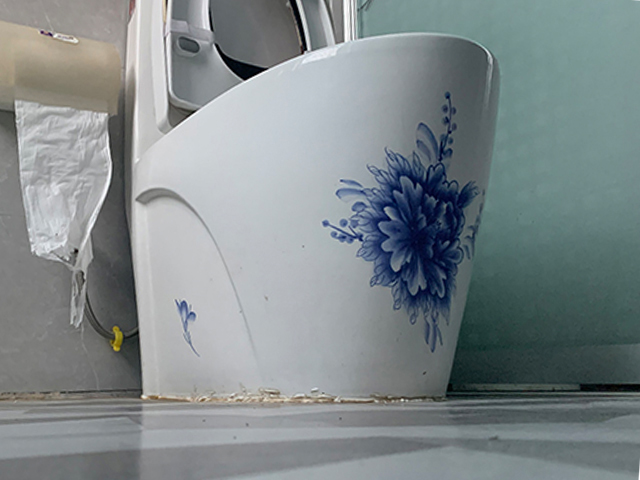closestool: (123, 1, 502, 402)
